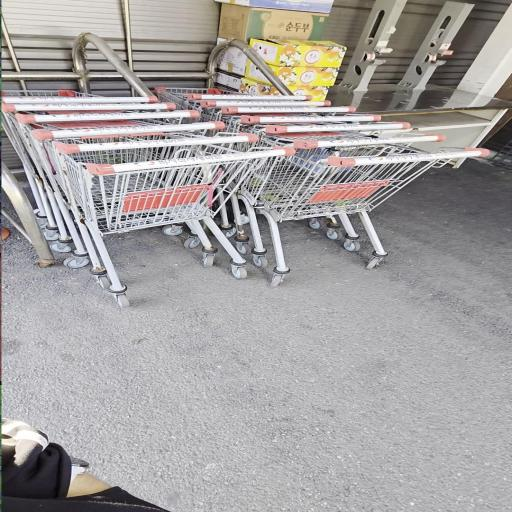combined_cart: (157, 87, 487, 284), (0, 90, 294, 304)
